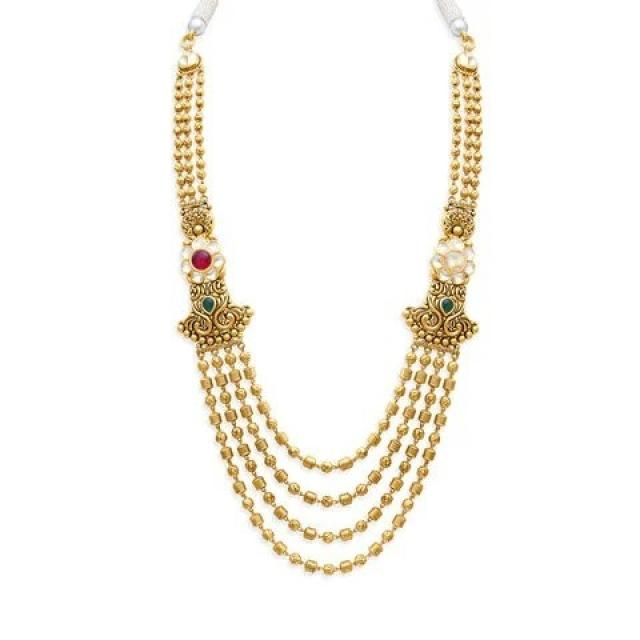missing gem: (444, 251, 464, 272)
